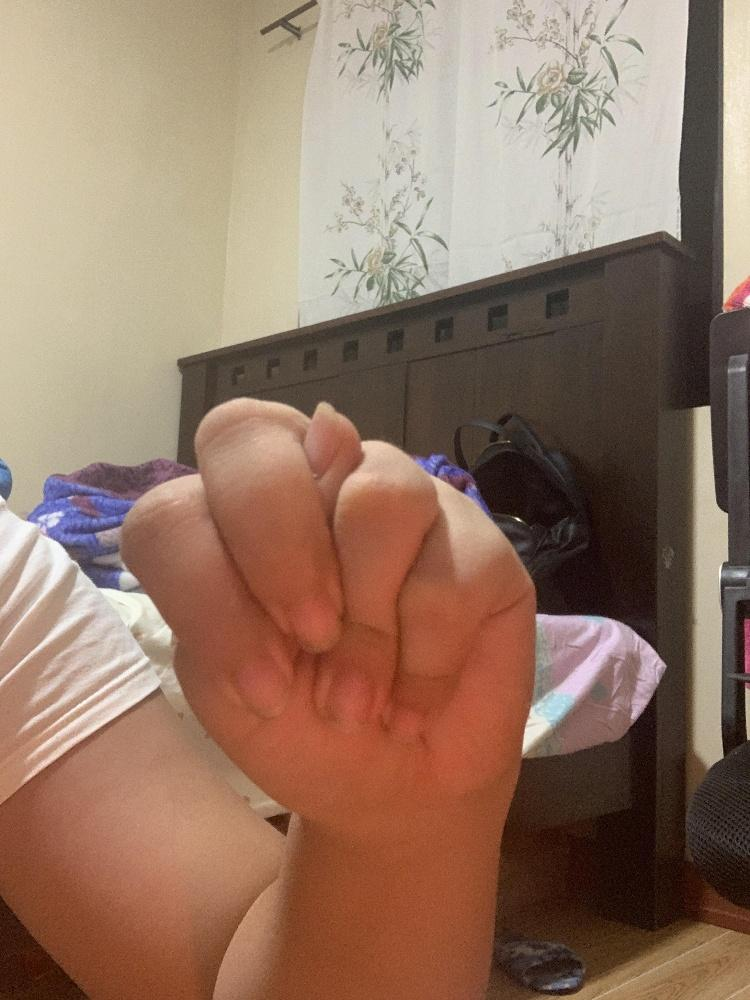n: (115, 391, 536, 828)
